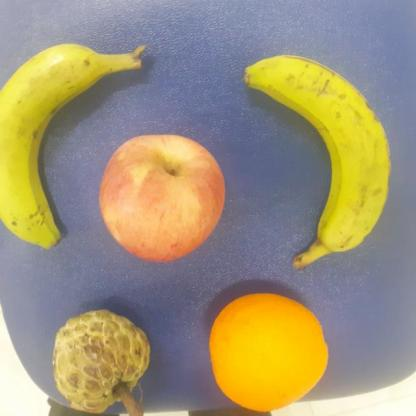annona: (43, 302, 152, 412)
apple: (97, 131, 232, 264)
banana: (238, 52, 398, 254), (0, 34, 103, 246)
orange: (206, 288, 330, 411)
